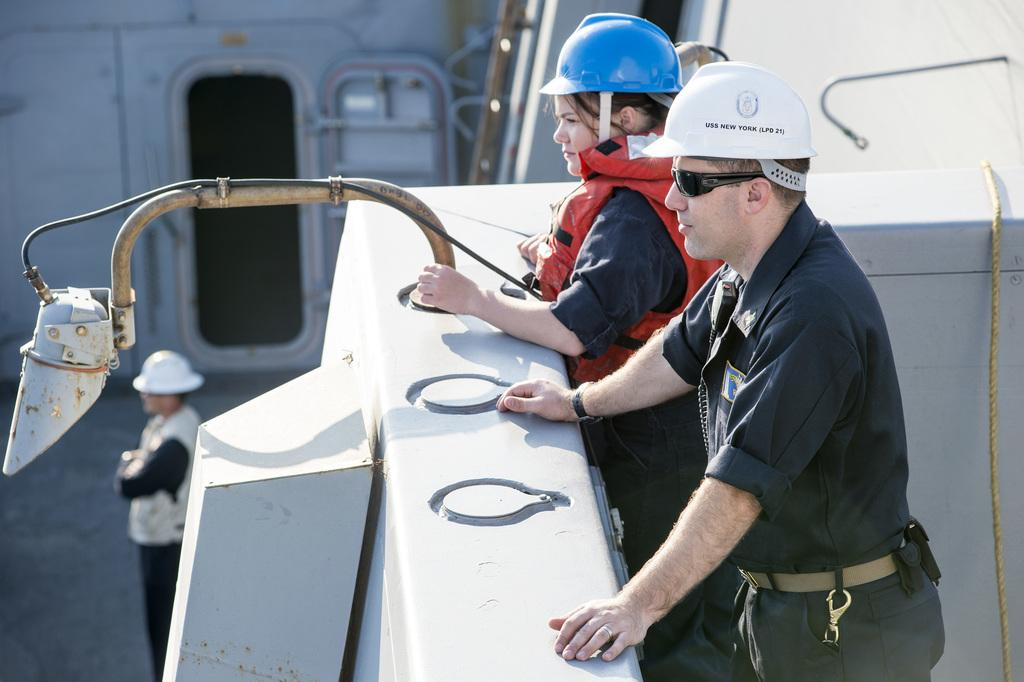helmet: (641, 61, 819, 259), (538, 12, 687, 174), (132, 350, 205, 414)
